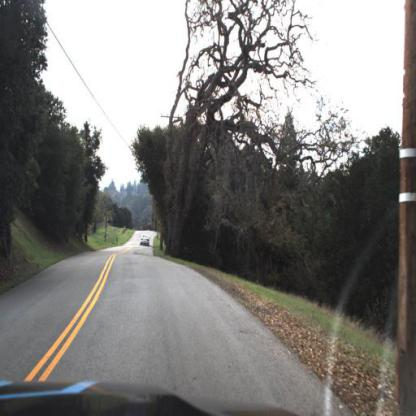car: (138, 231, 152, 249)
